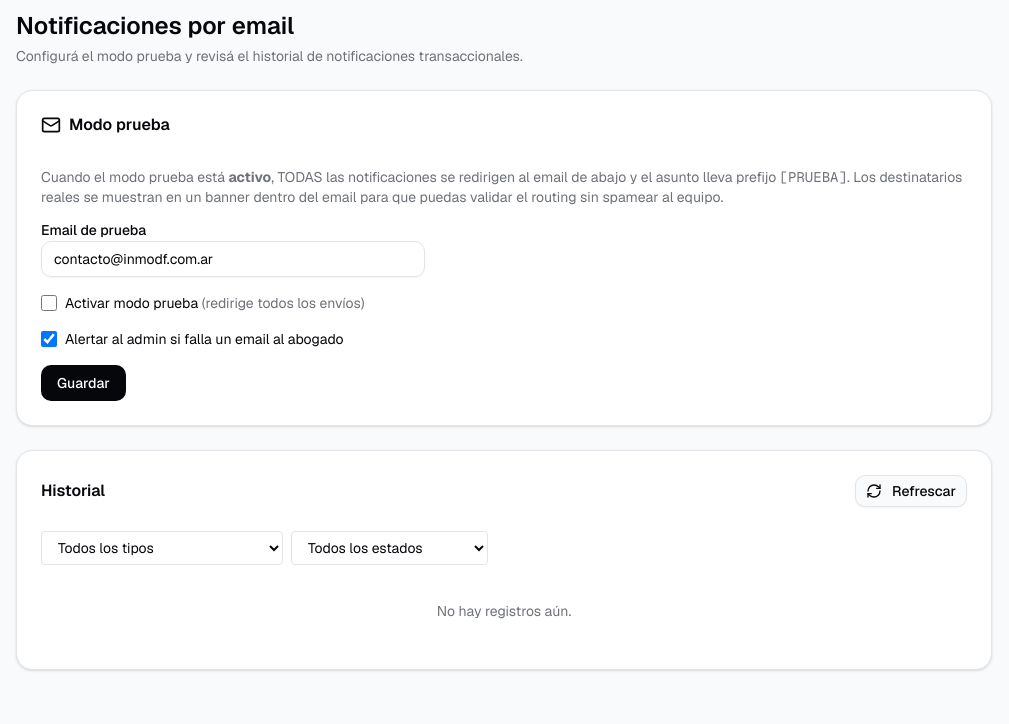
Scenario: Notificaciones — "Guardar" rechazado se explica y no borra lo tipeado › un guardado exitoso confirma y sí recarga
Click the button "Guardar" at (83, 383), box [41,365,126,401]
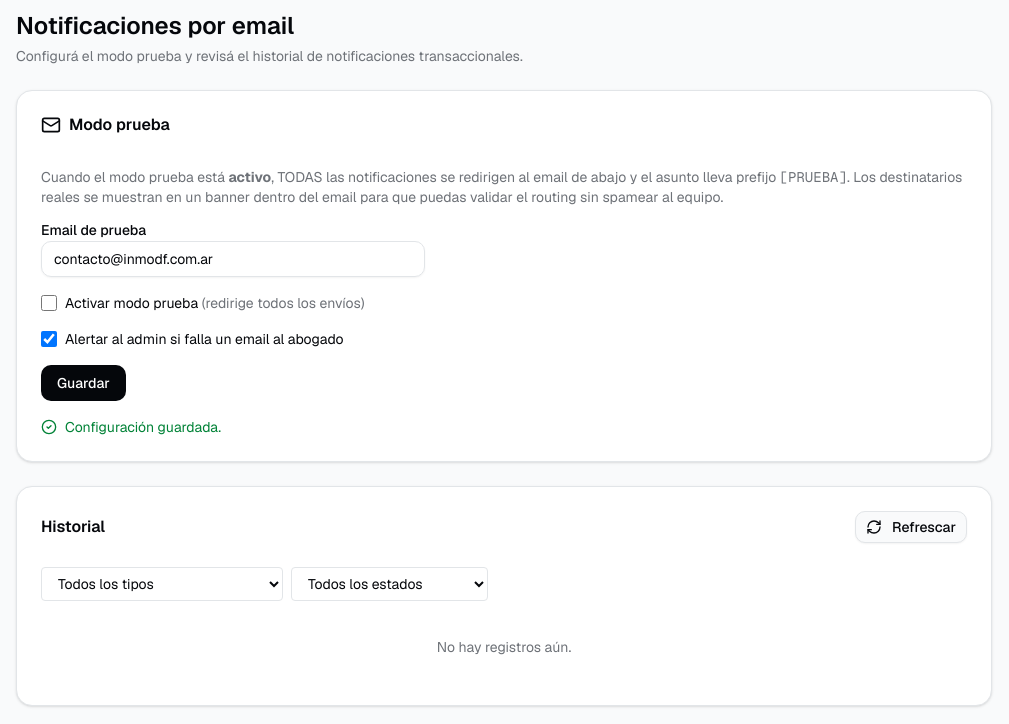
Expected: the text "Configuración guardada." is shown, [41,418,221,436]
